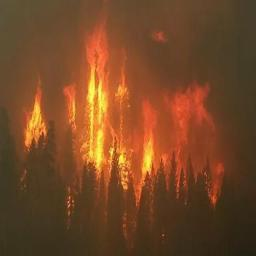Heavy smoke: (136, 1, 253, 75), (5, 1, 73, 73)
Large fire: (17, 29, 212, 228)
